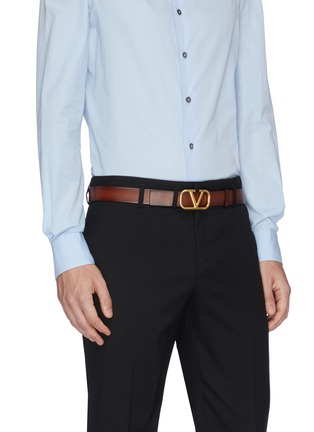F_belt: (78, 178, 257, 213)
F_dress pants: (76, 216, 275, 415)
F_shirt: (40, 1, 281, 284)
